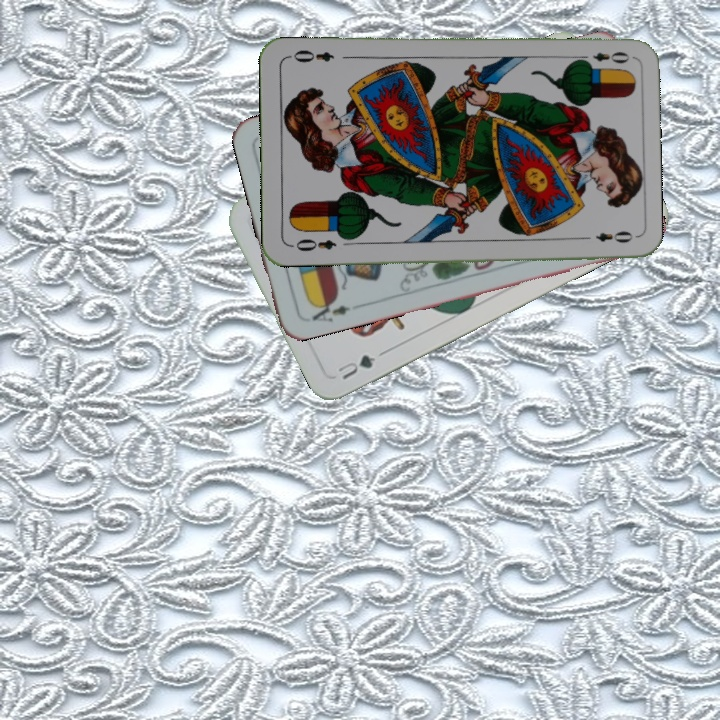EA: (307, 295, 353, 325)
EO: (574, 48, 632, 67), (287, 235, 339, 254)
GU: (333, 350, 379, 383)
